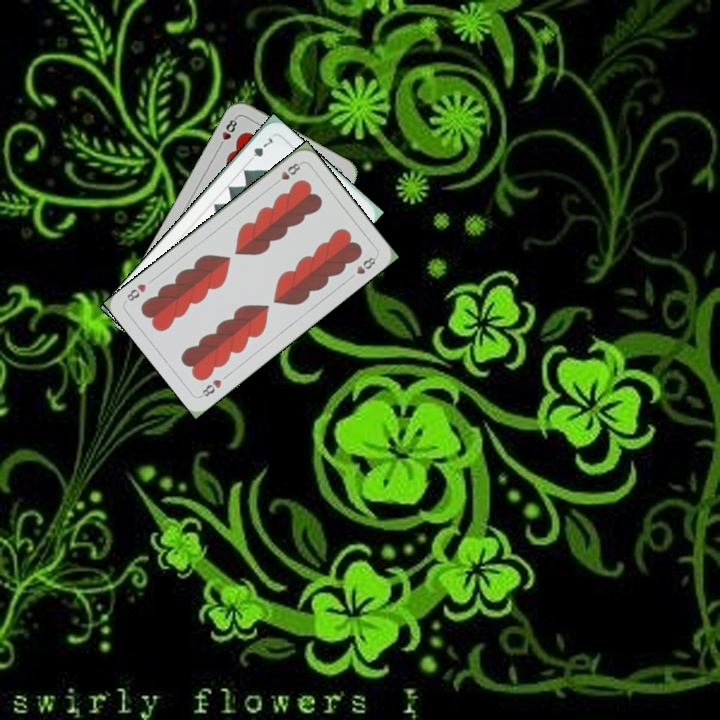G7: (244, 133, 275, 165)
H8: (269, 159, 304, 188), (215, 113, 240, 151), (196, 375, 224, 400)
